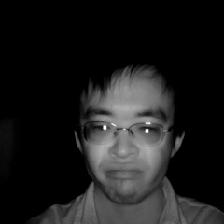sad: (70, 50, 190, 210)
